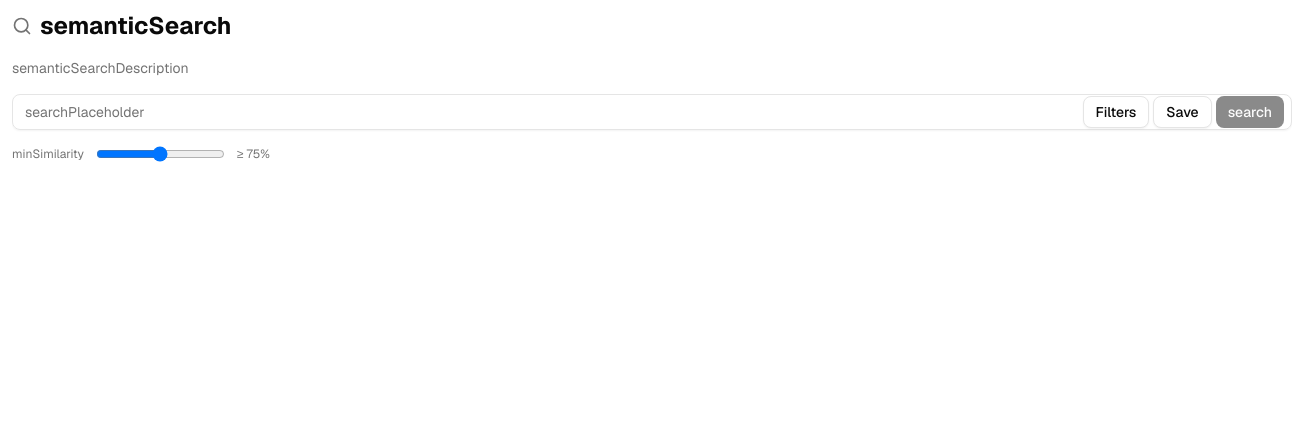
Scenario: SearchBar › Search Results Display › displays similarity scores
Type "test" into the field with placeholder "searchPlaceholder".
click(652, 112); type("test")  # box [12, 94, 1292, 130]
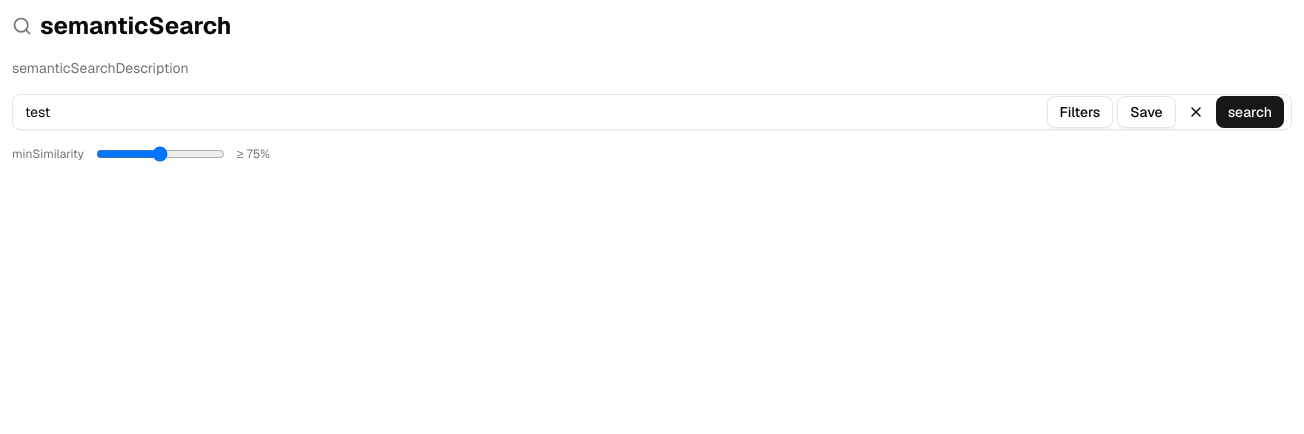
Submit the form with placeholder "searchPlaceholder", box [12, 94, 1292, 130]
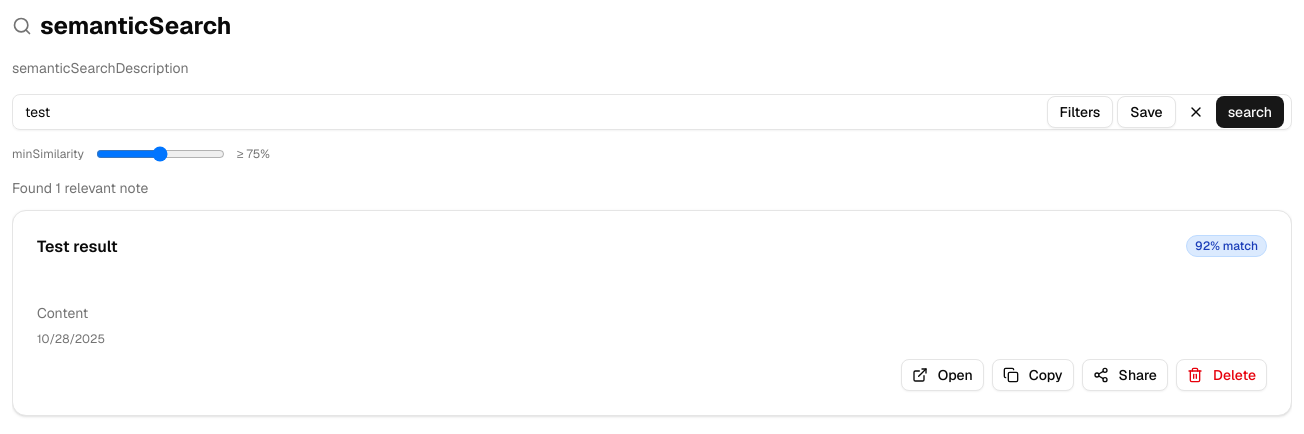
Check: the text "92% match" is shown, box [1186, 235, 1267, 257]
